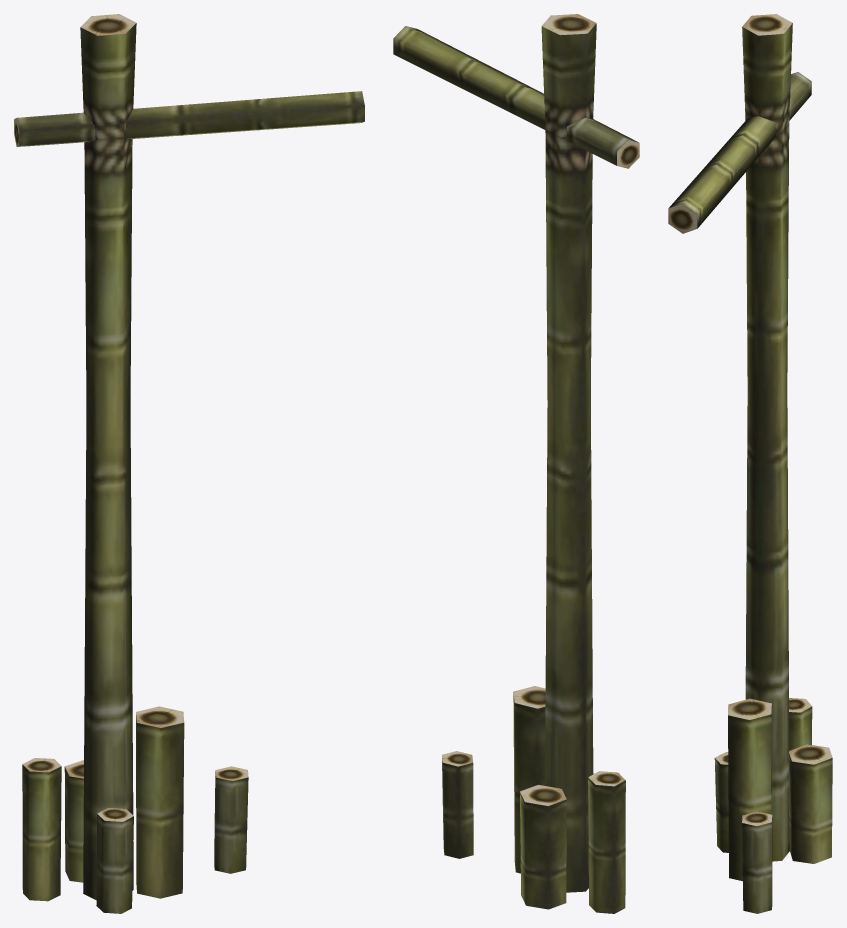
The picture shows the model from 3 angles, left to right: view 1: azimuth 30°, elevation 25°; view 2: azimuth 150°, elevation 25°; view 3: azimuth 270°, elevation 25°; orthographic projection. The views are drawn at different scales.
Parts seen in each view (by area): view 1: Mesh_polySurface182Shape3; view 2: Mesh_polySurface182Shape3; view 3: Mesh_polySurface182Shape3.
Boxes of the visible parts, <box> form: Mesh_polySurface182Shape3: <box>14,14,364,913</box>; Mesh_polySurface182Shape3: <box>393,14,639,913</box>; Mesh_polySurface182Shape3: <box>668,14,832,913</box>.
Bounding box in the file's own units: 7.44 × 20.93 × 3.77.
